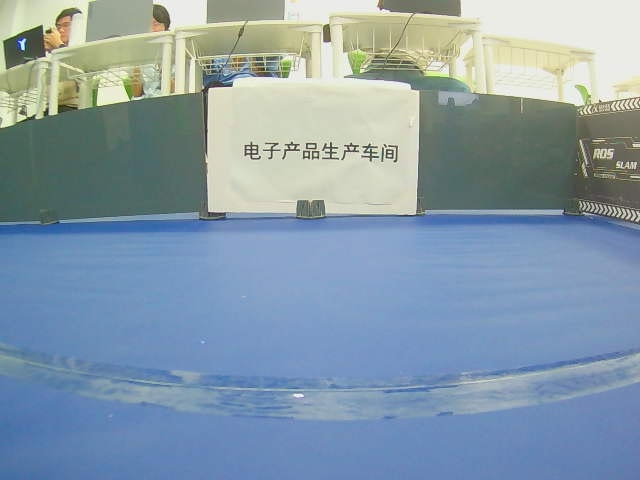target: (241, 140, 398, 164)
